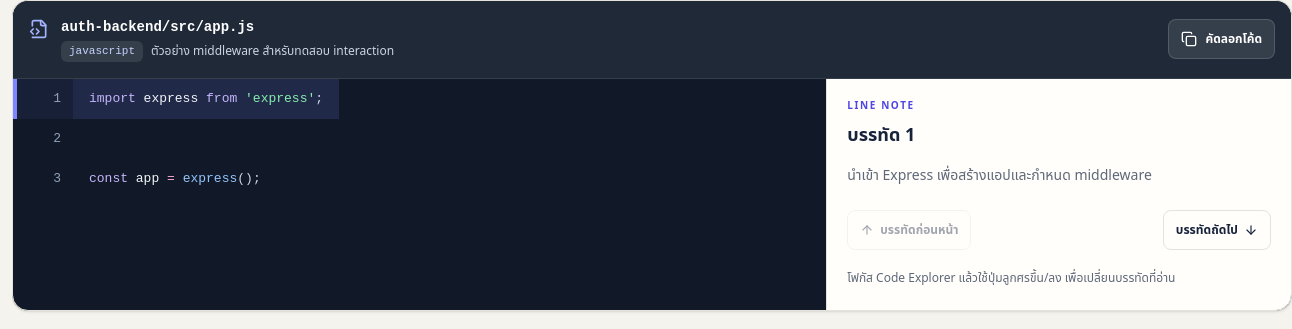
CodeExplorer › copies exact code and gives visible feedback
The width and height of the screenshot is (1292, 329).
Click the button "คัดลอกโค้ด".
click(1222, 39)  # box [1168, 19, 1275, 59]
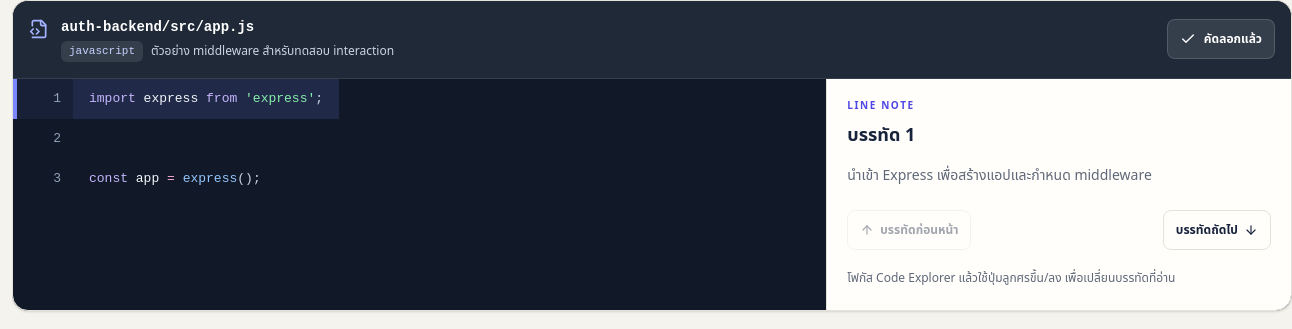
Check: the text "คัดลอกแล้ว" is shown, box [1204, 31, 1262, 47]
